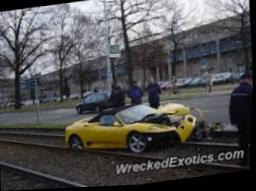Bonnet: (136, 106, 198, 128)
Bumper: (146, 114, 212, 147)
